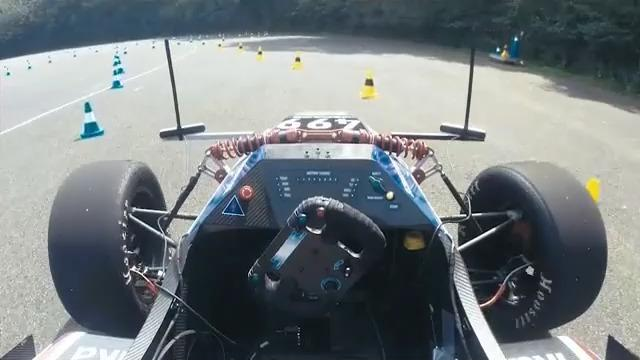blue_cone: (80, 101, 103, 139), (110, 70, 124, 90), (110, 64, 122, 81), (113, 58, 124, 73), (115, 53, 123, 65), (5, 68, 11, 77), (27, 62, 32, 70), (48, 56, 53, 64)
yellow_cone: (553, 166, 607, 306), (359, 70, 379, 100), (292, 51, 302, 69), (255, 47, 266, 60), (237, 42, 246, 56), (217, 44, 223, 53), (25, 58, 30, 66), (4, 64, 8, 73)
